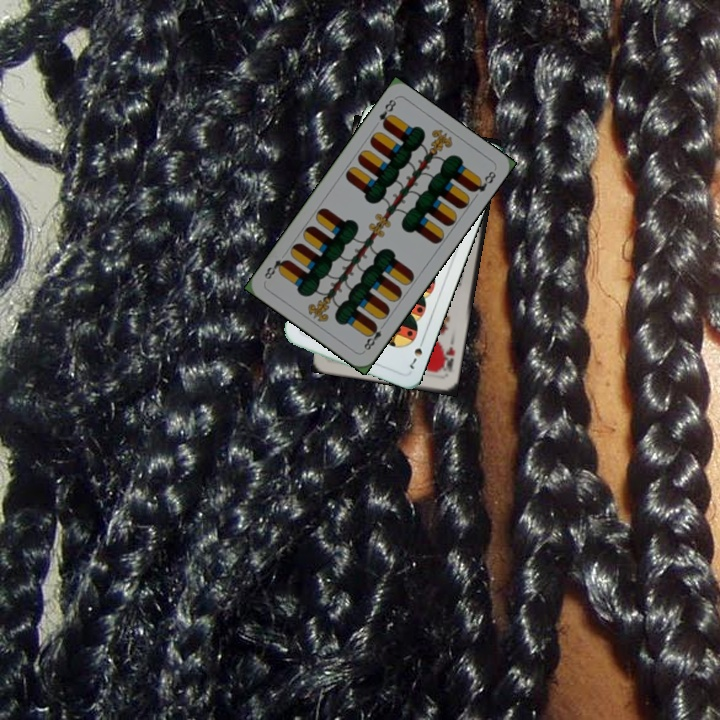E8: (360, 319, 388, 353), (375, 95, 399, 130)
HK: (437, 342, 458, 374)
S7: (405, 334, 427, 372)
